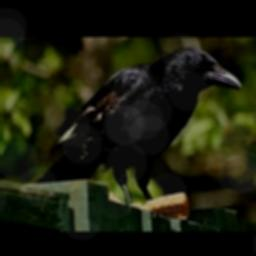Crow: (33, 46, 242, 208)
